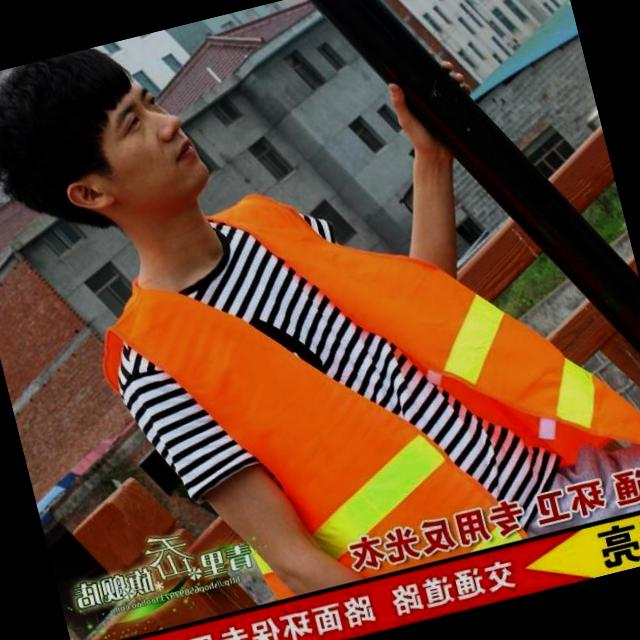vest: (137, 159, 619, 549)
